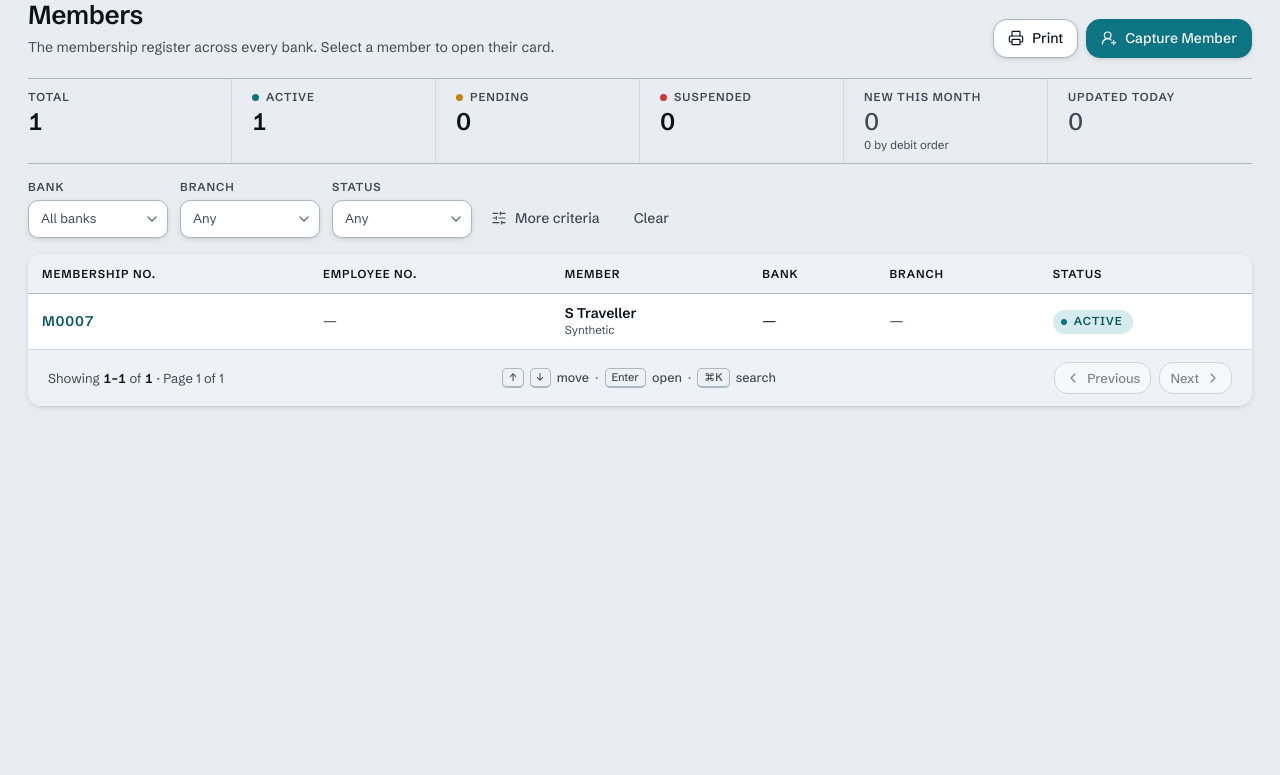
Test: the dates on a member record › ⑤ the must-pass: a record with no dates on file still says so, rather than printing a stray dash
Click the button named "open the record for".
click(68, 322)  # box [42, 311, 94, 332]
(page scrolled)
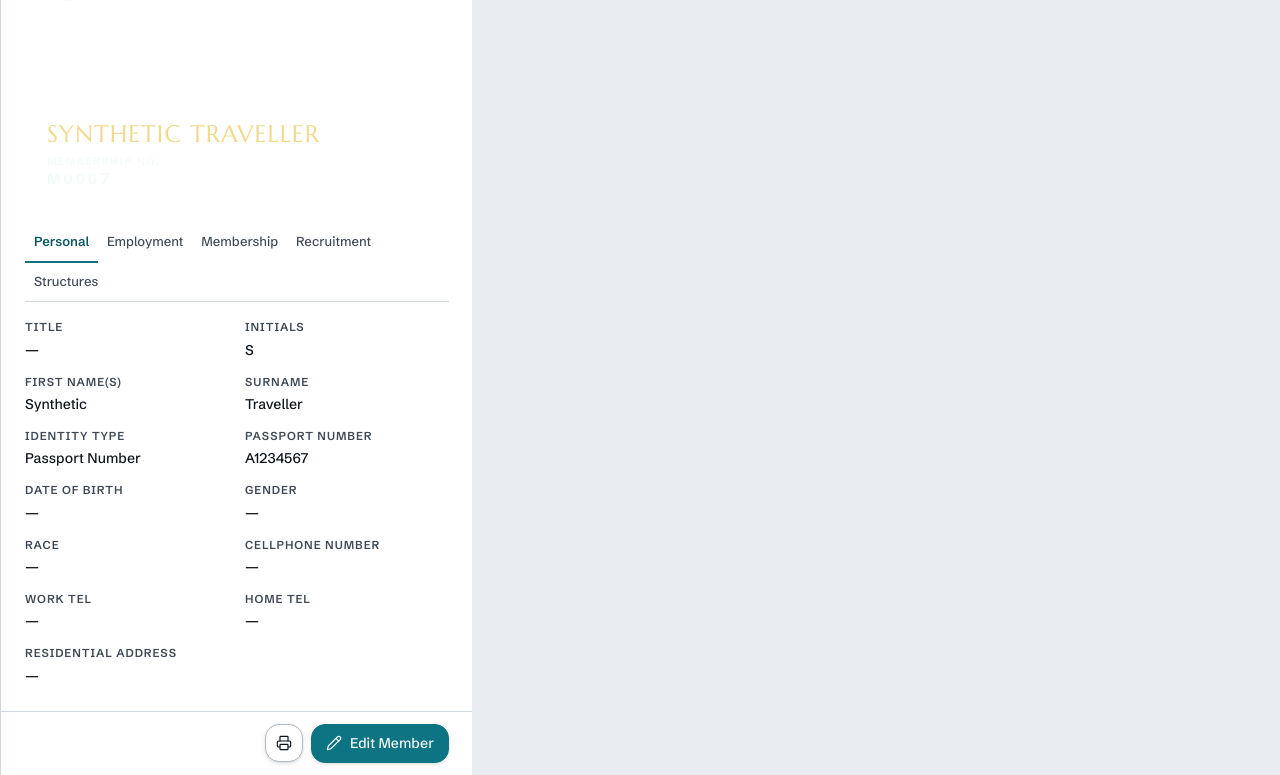
Check: the text "Date of Birth" is shown, box [25, 483, 123, 497]
Check: the text "—" below "Date of Birth" is shown, box [25, 504, 39, 522]
